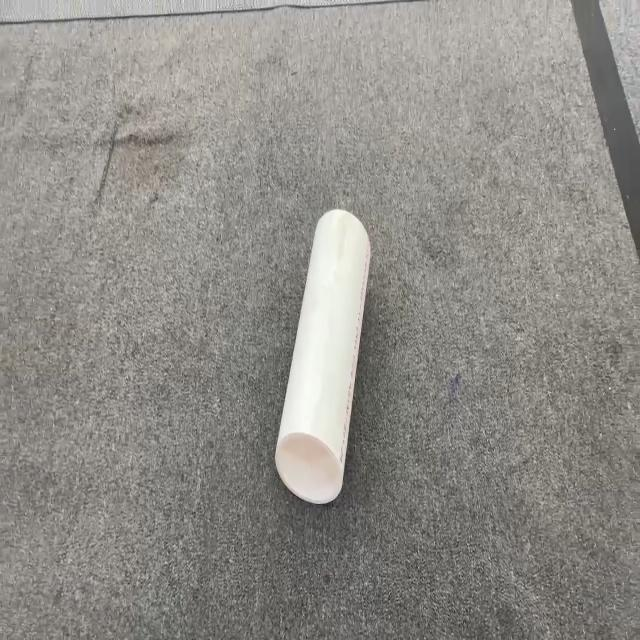coral: (273, 207, 371, 505)
